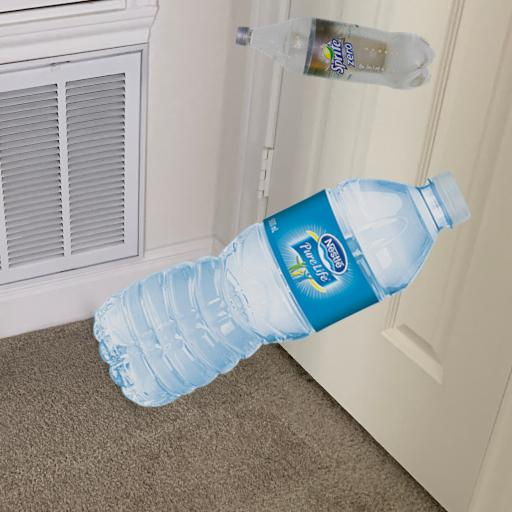plastic_bottle: (92, 172, 472, 410), (236, 16, 435, 90)
